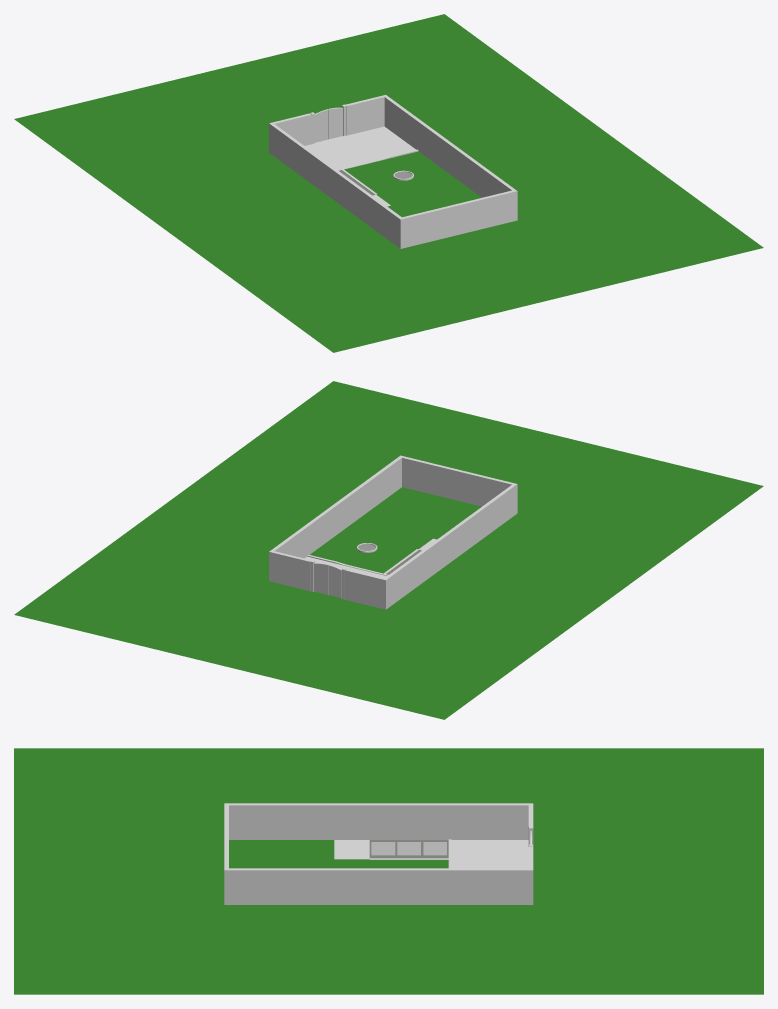
Rendered from yard.fbx.
The picture shows the model from 3 angles, top to bottom: view 1: azimuth 30°, elevation 25°; view 2: azimuth 150°, elevation 25°; view 3: azimuth 270°, elevation 25°; orthographic projection. The views are drawn at different scales.
Visible parts, largest first — view 1: Plane, Plane.001, gate; view 2: Plane, Plane.001, gate; view 3: Plane, Plane.001, Plane.003.
Boxes of the visible parts, bbox=[...] form: Plane: bbox=[14, 14, 763, 352]; Plane.001: bbox=[269, 95, 517, 248]; gate: bbox=[310, 104, 346, 143]; Plane: bbox=[14, 381, 763, 719]; Plane.001: bbox=[269, 455, 517, 609]; gate: bbox=[310, 560, 346, 599]; Plane: bbox=[14, 748, 763, 994]; Plane.001: bbox=[224, 803, 533, 904]; Plane.003: bbox=[371, 842, 446, 855].
Size of the model in its own units: 3825 by 261 by 4916.
